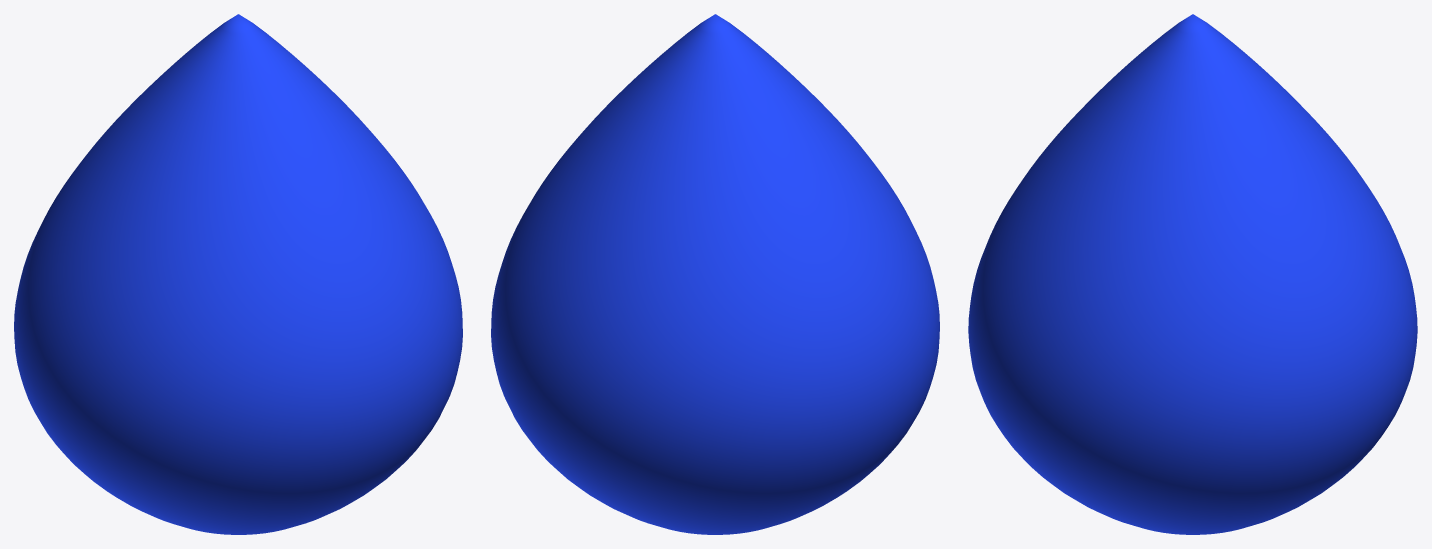
Rendered from top.glb.
3 renders of one model, left to right at view 1: azimuth 30°, elevation 25°; view 2: azimuth 150°, elevation 25°; view 3: azimuth 270°, elevation 25°, orthographic.
Parts seen in each view (by area): view 1: SpinningTop; view 2: SpinningTop; view 3: SpinningTop.
Part boxes in pixels (x1,y1,x2,y2): SpinningTop: [14, 14, 462, 534]; SpinningTop: [491, 14, 939, 534]; SpinningTop: [968, 14, 1417, 534].
Size of the model in its own units: 1.4 by 1.75 by 1.4.
